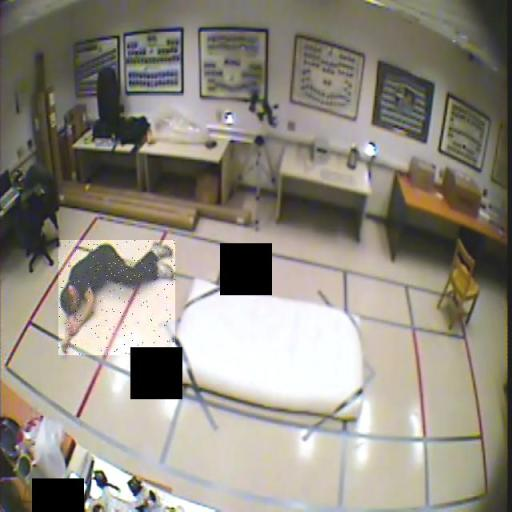Fall: (59, 240, 176, 355)
